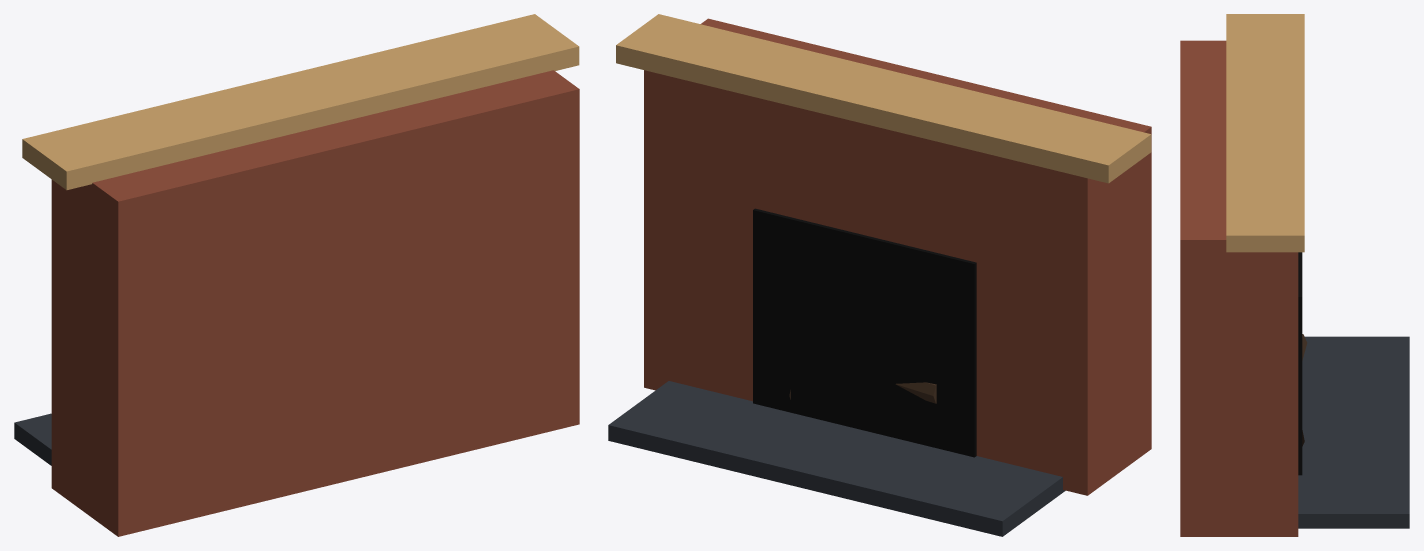
Rendered from hospitality.pub.fireplace.glb.
3 views of the same model, side by side, from view 1: azimuth 30°, elevation 25°; view 2: azimuth 150°, elevation 25°; view 3: azimuth 270°, elevation 25° (orthographic). The views are drawn at different scales.
Parts seen in each view (by area): view 1: main__brick, main__glulam, main__slate; view 2: main__brick, main__plastic_black, main__glulam, main__slate; view 3: main__brick, main__slate, main__glulam, main__plastic_black.
Part boxes in pixels (left/top/right/bottom): main__brick: left=51, top=70, right=579, bottom=536; main__glulam: left=22, top=14, right=579, bottom=190; main__slate: left=14, top=413, right=51, bottom=465; main__brick: left=644, top=18, right=1151, bottom=495; main__plastic_black: left=753, top=208, right=976, bottom=457; main__glulam: left=616, top=14, right=1151, bottom=183; main__slate: left=608, top=381, right=1065, bottom=536; main__brick: left=1180, top=40, right=1298, bottom=536; main__slate: left=1298, top=336, right=1409, bottom=528; main__glulam: left=1226, top=14, right=1304, bottom=252; main__plastic_black: left=1298, top=252, right=1302, bottom=475.
Bounding box in the file's own units: 2 × 1.33 × 0.875.
